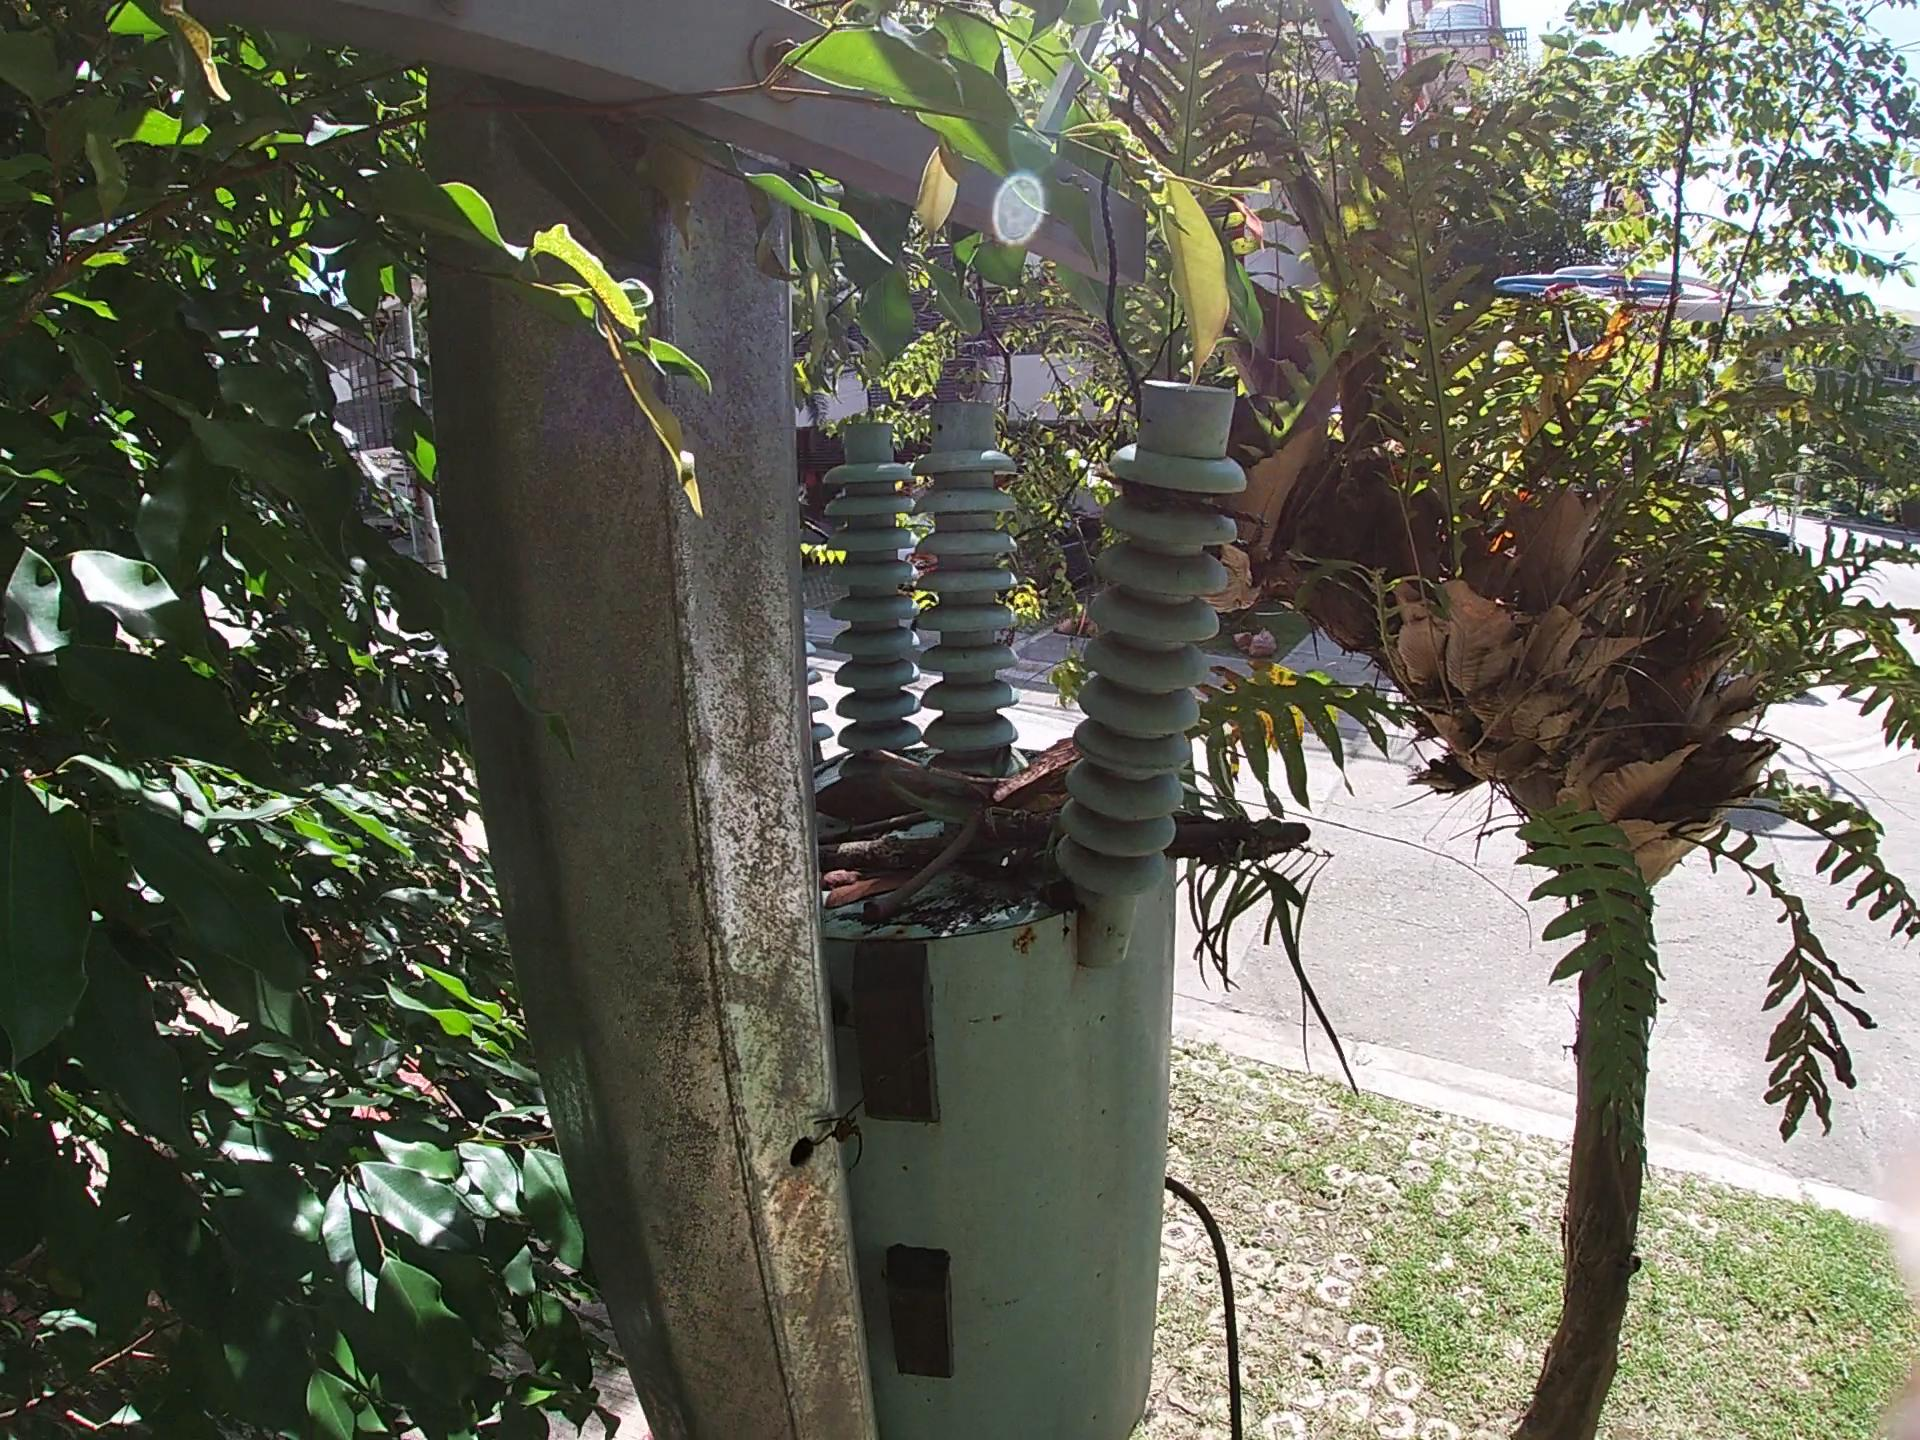branch with leaves: (819, 812, 1321, 883)
leaf: (841, 852, 972, 977)
mahogany fruit: (850, 755, 1002, 833)
tree branch: (903, 756, 1572, 936), (865, 793, 1011, 933), (800, 743, 838, 811)
